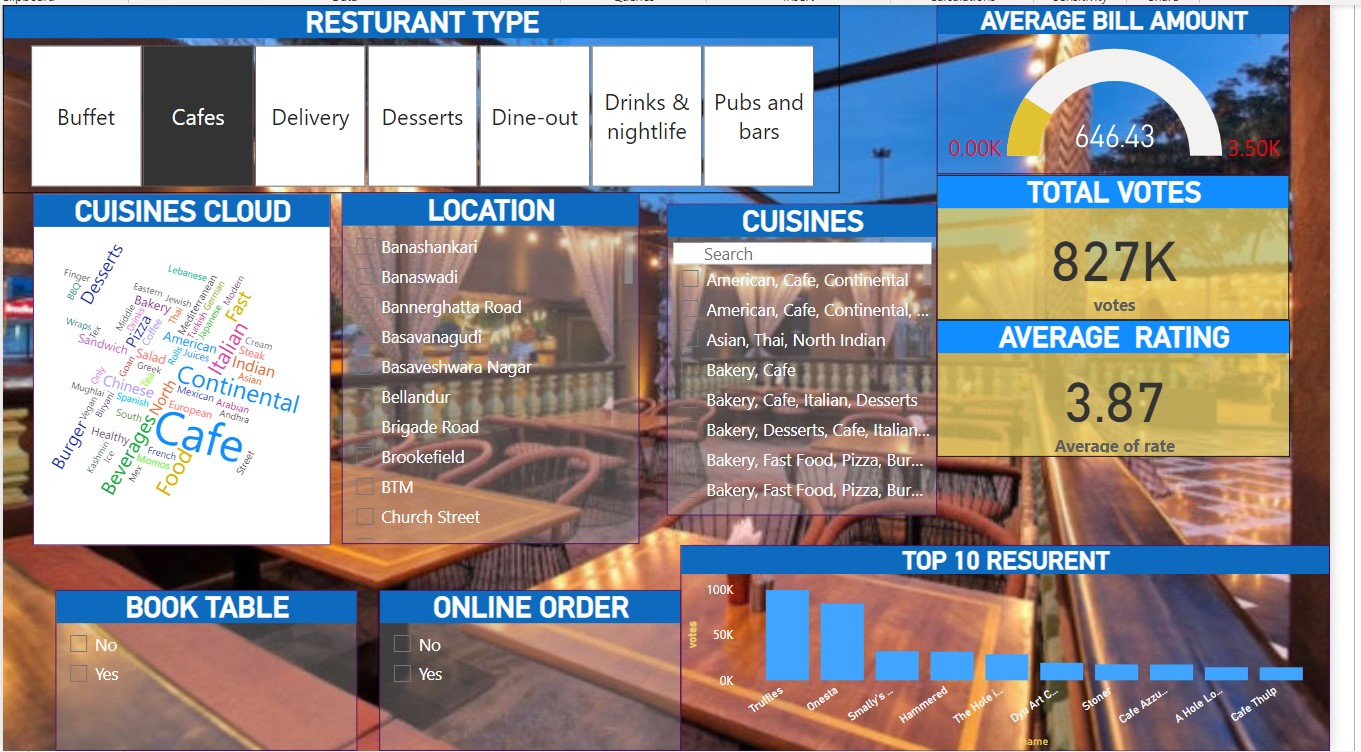

This screenshot's page, from the dashboard's own definition file:
{"tool":"powerbi","page":{"name":"Page 1","canvas":[1280,720],"ordinal":0},"visuals":[{"type":"slicer","title":"RESTURANT TYPE","fields":{"Values":["zomato.listed_in(type)"]},"box":[0,0,807.6,181.3],"z":0},{"type":"gauge","title":"AVERAGE BILL AMOUNT","fields":{"Y":["Avg(zomato.approx_cost(for two people))"]},"box":[900.9,0,340.6,163.4],"z":1000},{"type":"card","title":"TOTAL VOTES ","fields":{"Values":["Sum(zomato.votes)"]},"box":[900.9,163.4,340.6,140.1],"z":2000},{"type":"card","title":"AVERAGE  RATING","fields":{"Values":["Avg(zomato.rate)"]},"box":[900.9,303.5,340.6,131.8],"z":3000},{"type":"columnChart","title":"TOP 10 RESURENT","fields":{"Y":["Sum(zomato.votes)"],"Category":["zomato.name"]},"box":[653.7,520.5,626.3,199.1],"z":4000},{"type":"slicer","title":"ONLINE ORDER","fields":{"Values":["zomato.online_order"]},"box":[362.6,564.5,291.2,155.2],"z":5000},{"type":"slicer","title":"CUISINES","fields":{"Values":["zomato.cuisines"]},"box":[640,192.3,260.9,300.8],"z":6000},{"type":"slicer","title":"LOCATION","fields":{"Values":["zomato.location"]},"box":[326.9,181.3,287,339.2],"z":7000},{"type":"slicer","title":"CUISINES CLOUD","fields":{"Values":["zomato.cuisines"]},"box":[28.8,182.7,287,339.2],"z":8000},{"type":"slicer","title":"BOOK TABLE","fields":{"Values":["zomato.book_table"]},"box":[50.8,564.5,291.2,155.2],"z":9000}]}

Visuals, with their boxes on the page's 1280x720 design canvas (x1, y1, x2, y2). These are canvas units, not pixel positions in the 1361x752 screenshot, which may show the page scaled, cropped or inside an application window:
"RESTURANT TYPE" slicer: bbox=[0, 0, 808, 181]
"AVERAGE BILL AMOUNT" gauge: bbox=[901, 0, 1242, 163]
"TOTAL VOTES " card: bbox=[901, 163, 1242, 304]
"AVERAGE  RATING" card: bbox=[901, 304, 1242, 435]
"TOP 10 RESURENT" columnChart: bbox=[654, 520, 1280, 720]
"ONLINE ORDER" slicer: bbox=[363, 564, 654, 720]
"CUISINES" slicer: bbox=[640, 192, 901, 493]
"LOCATION" slicer: bbox=[327, 181, 614, 520]
"CUISINES CLOUD" slicer: bbox=[29, 183, 316, 522]
"BOOK TABLE" slicer: bbox=[51, 564, 342, 720]
